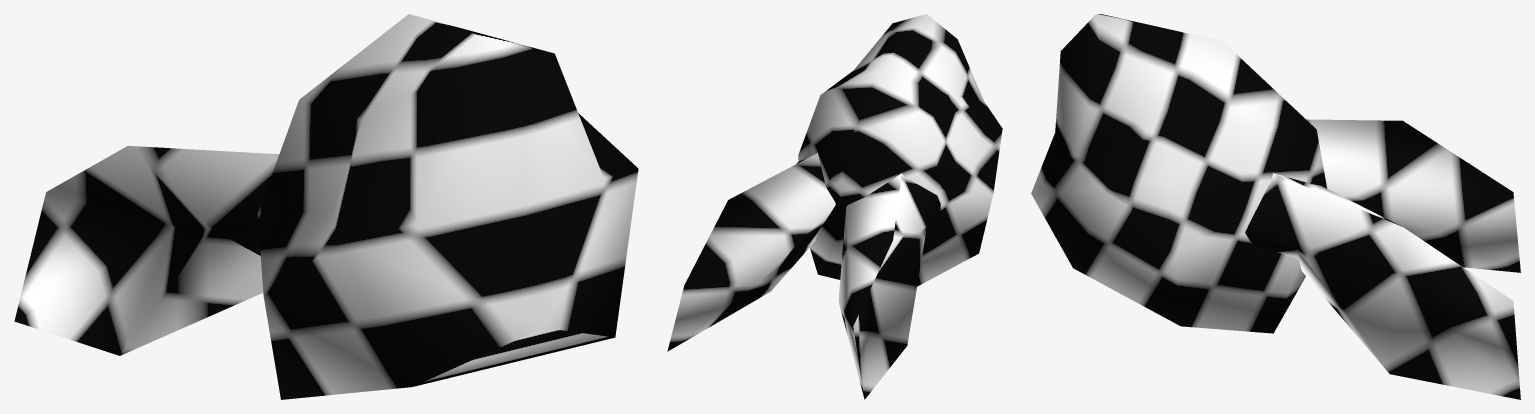
Rendered from infaunanhoha.dae.
The picture shows the model from 3 angles, left to right: view 1: azimuth 30°, elevation 25°; view 2: azimuth 150°, elevation 25°; view 3: azimuth 270°, elevation 25°; orthographic projection. The views are drawn at different scales.
Parts seen in each view (by area): view 1: face; view 2: face; view 3: face.
Part boxes in pixels (x1=…): face: x1=14, y1=14, x2=638, y2=399; face: x1=667, y1=14, x2=1002, y2=399; face: x1=1031, y1=14, x2=1520, y2=399.
Bounding box in the file's own units: 0.8233 × 1.34 × 0.9733.
Materials: 1 (1 with a texture image).
